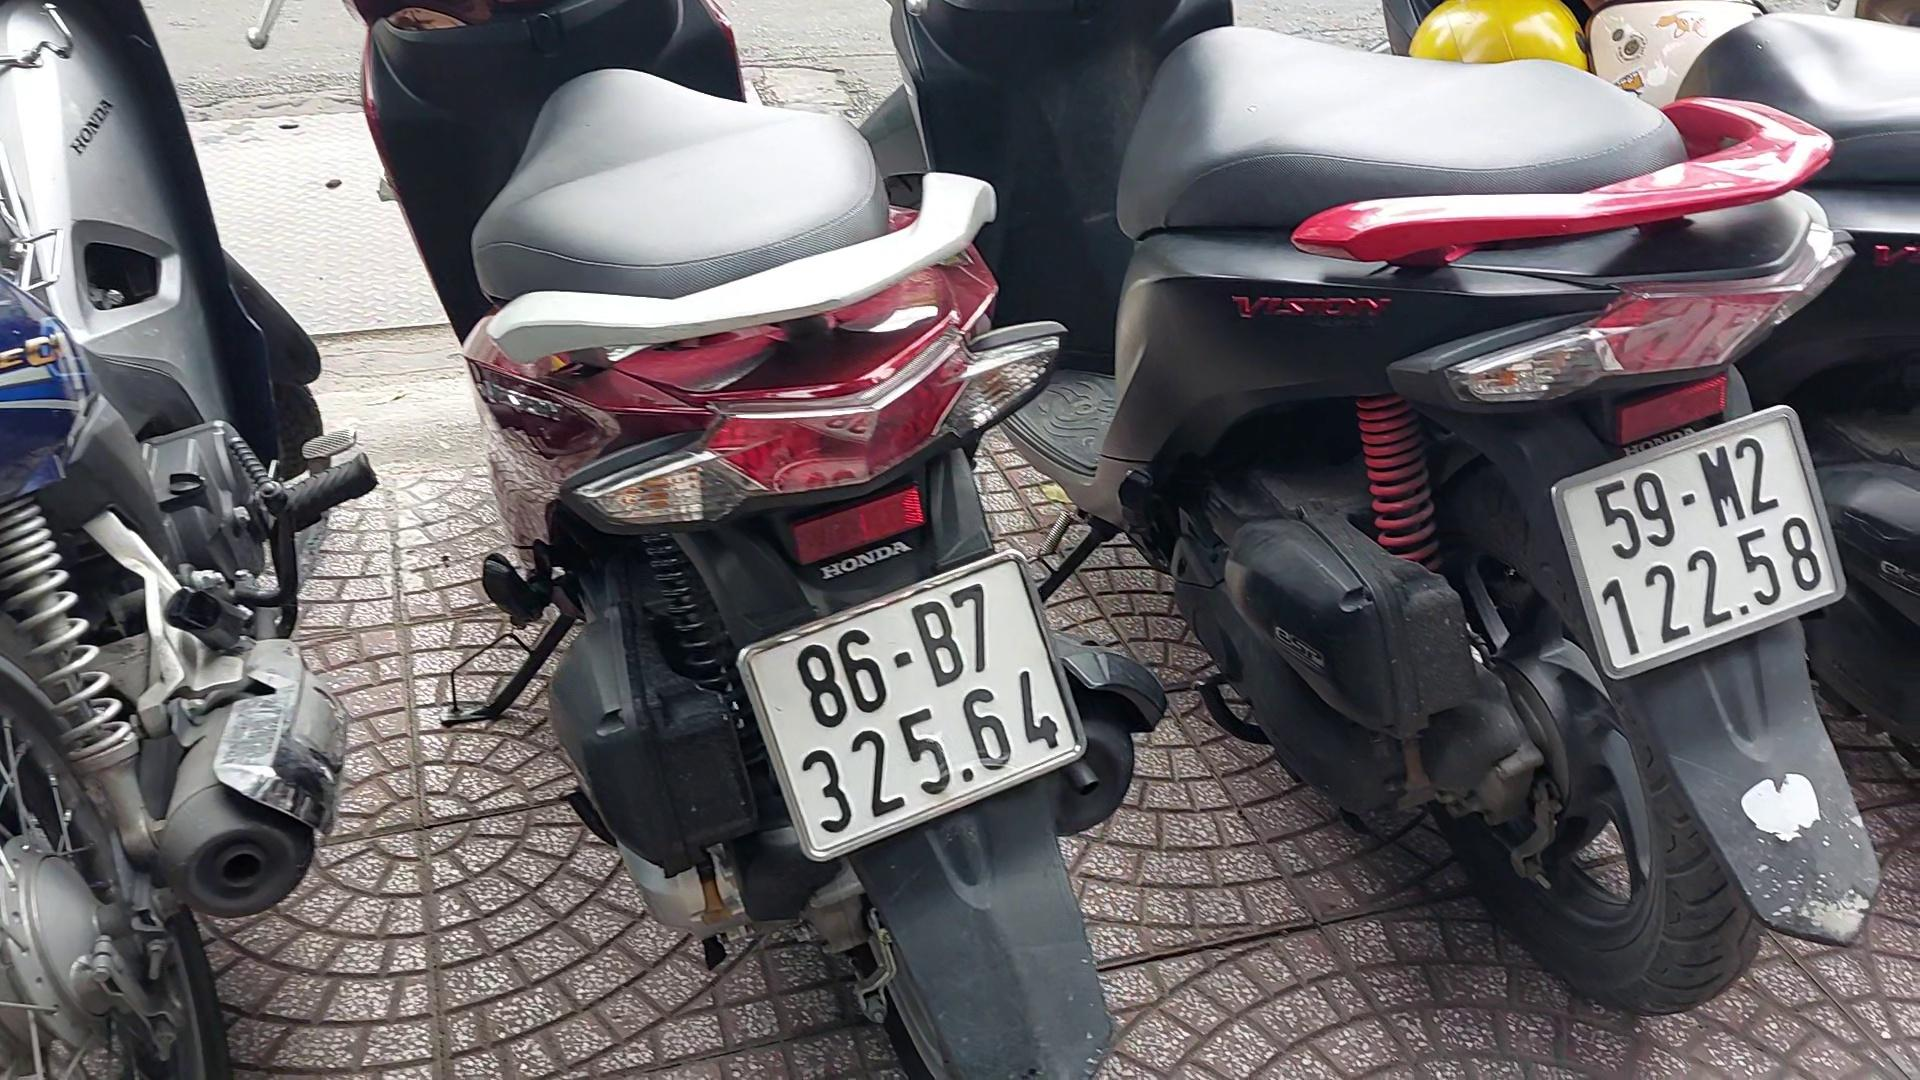numplate: (733, 556, 1100, 882), (1560, 390, 1863, 683)
